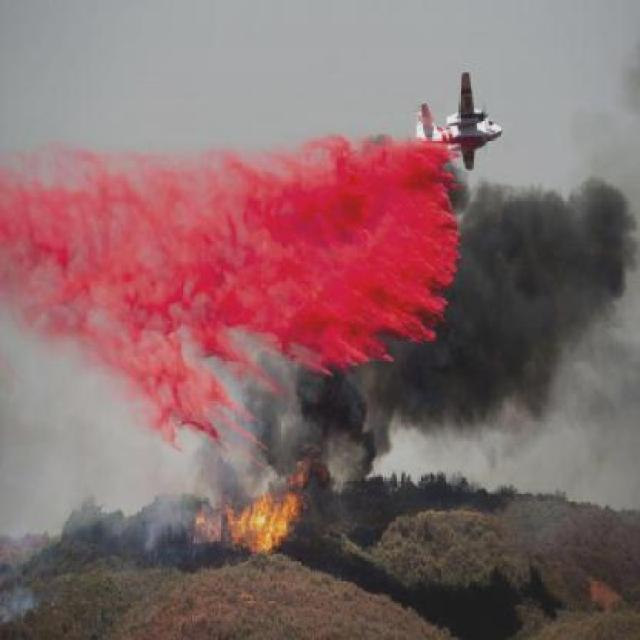Fire: (226, 484, 299, 560)
